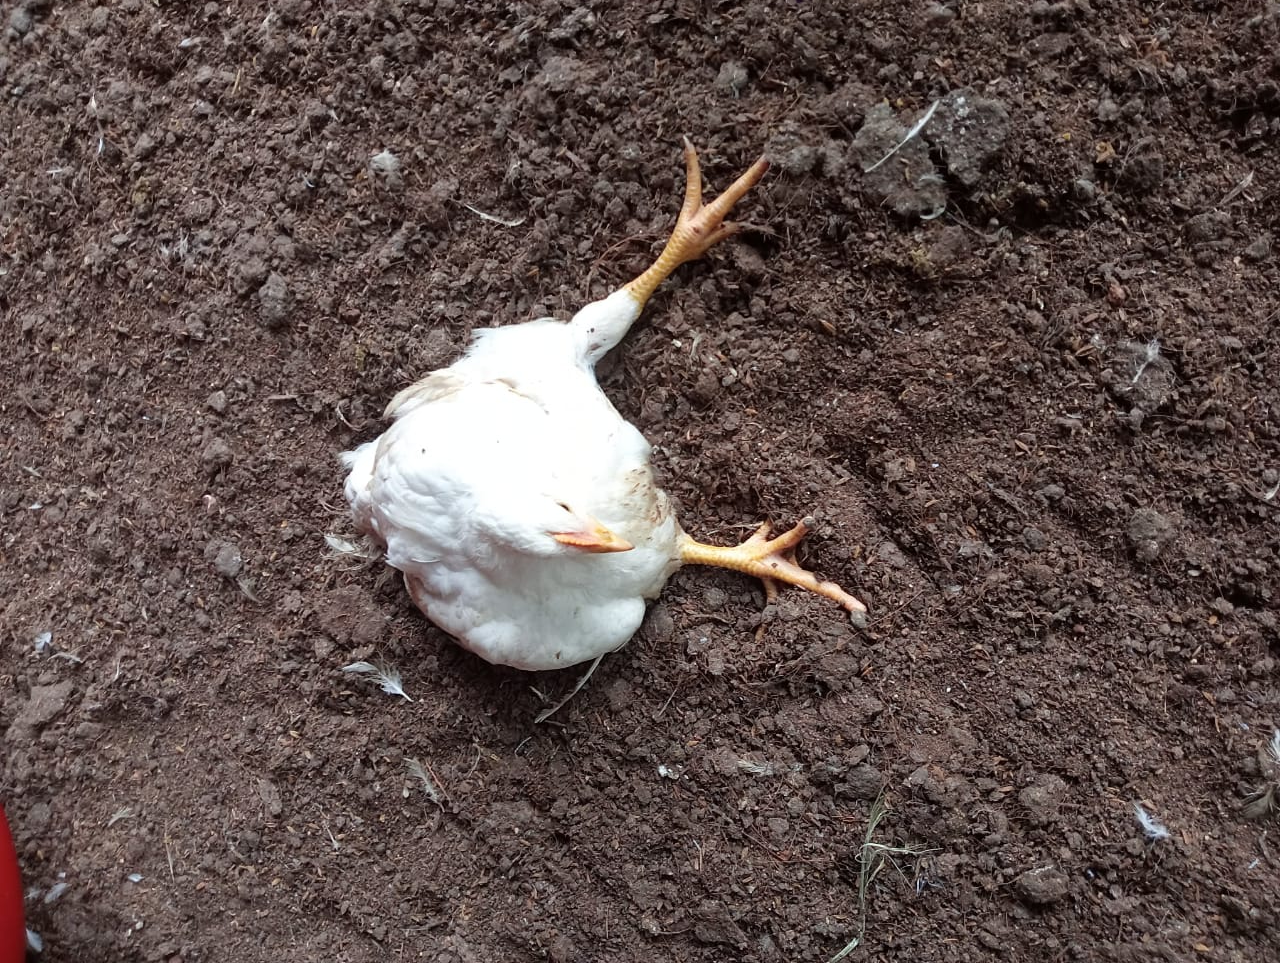Unhealthy: (312, 54, 889, 686)
